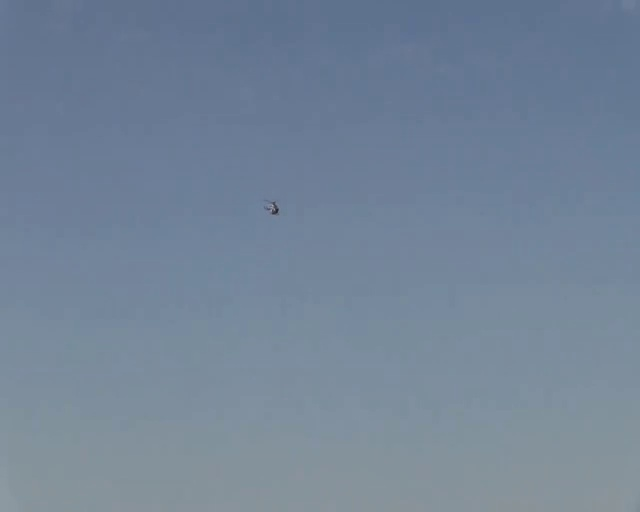HELICOPTER: (263, 199, 279, 215)
